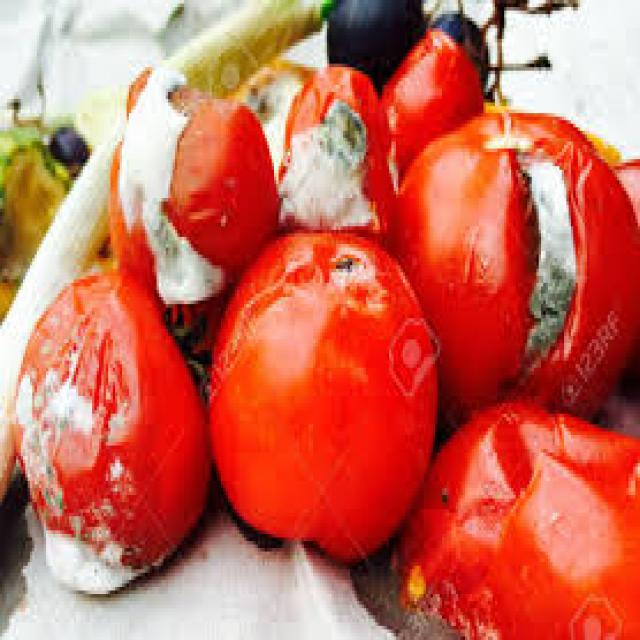organic waste: (205, 223, 437, 562), (393, 102, 638, 420), (14, 268, 207, 590), (396, 392, 638, 636), (108, 71, 276, 318), (281, 56, 394, 248), (380, 28, 481, 163), (0, 117, 69, 311), (327, 0, 421, 78), (428, 7, 488, 96), (46, 124, 88, 166)
